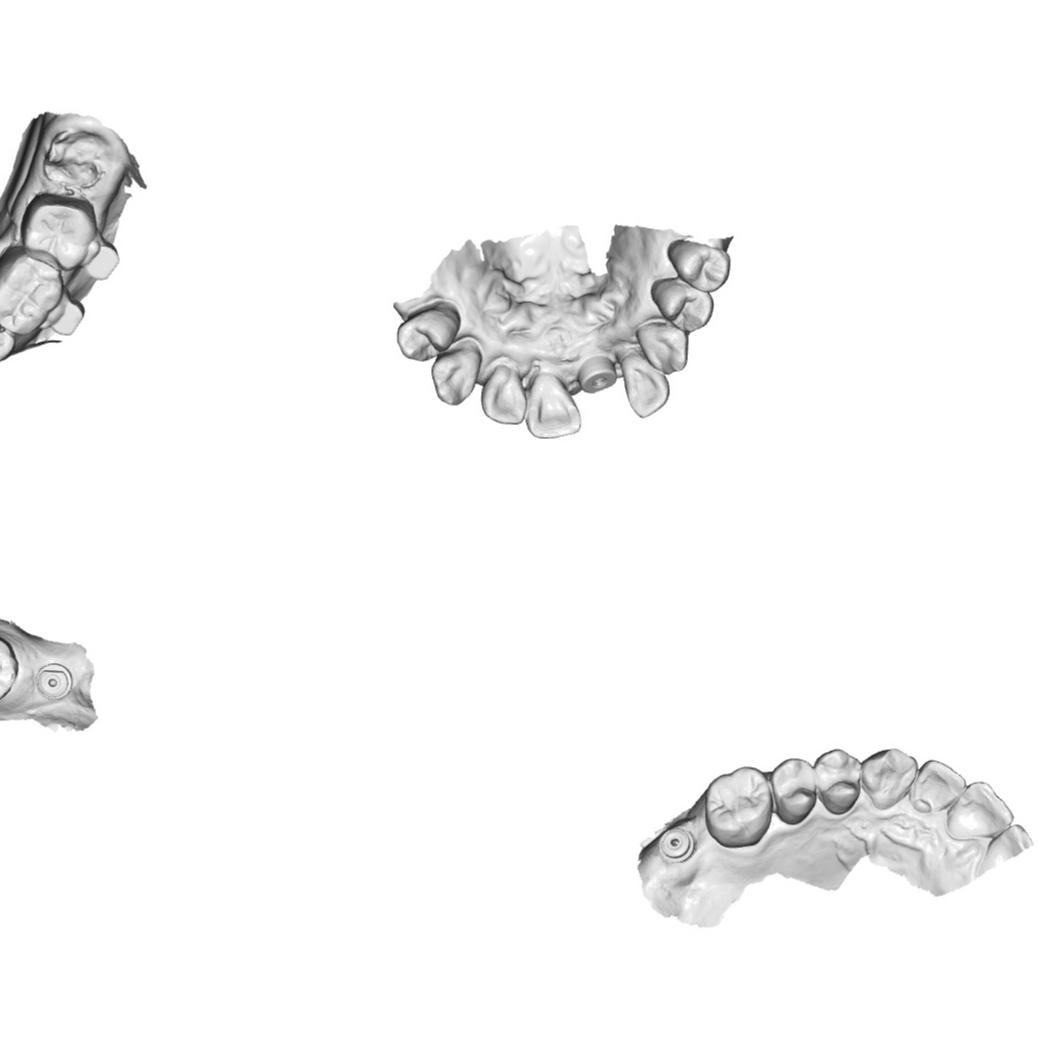canine: (858, 745, 919, 814), (427, 343, 482, 409), (638, 317, 694, 375)
implant: (657, 824, 698, 867), (578, 351, 618, 395), (36, 660, 74, 700)
incisor: (942, 779, 1015, 844), (523, 370, 583, 442), (907, 756, 970, 818), (618, 350, 672, 420), (478, 360, 530, 426)
molar: (19, 192, 98, 273), (701, 764, 775, 850), (0, 245, 68, 338), (0, 627, 20, 707)
premolar: (395, 302, 463, 365), (663, 236, 733, 296), (646, 276, 715, 336), (812, 745, 866, 818), (766, 754, 820, 825), (0, 306, 17, 365)
